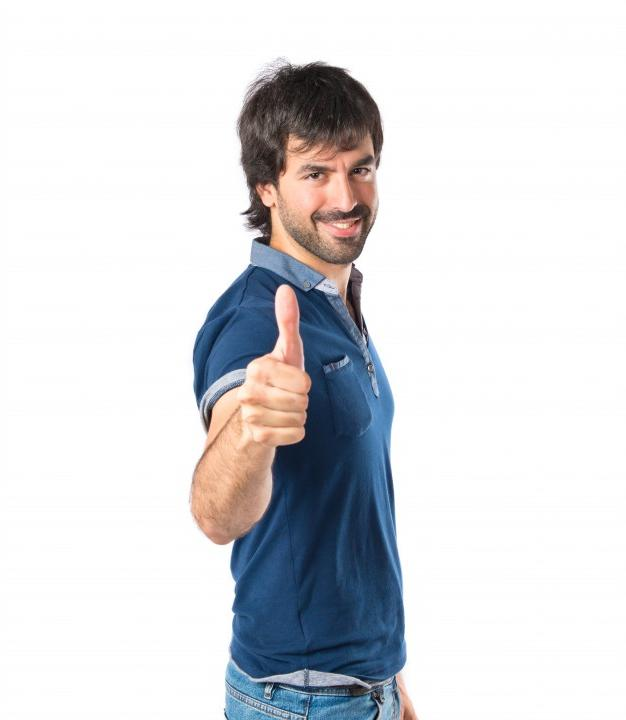thumbsup: (238, 284, 312, 445)
